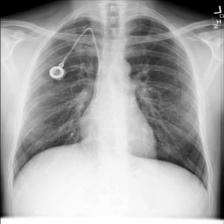normal: (8, 11, 213, 193)
